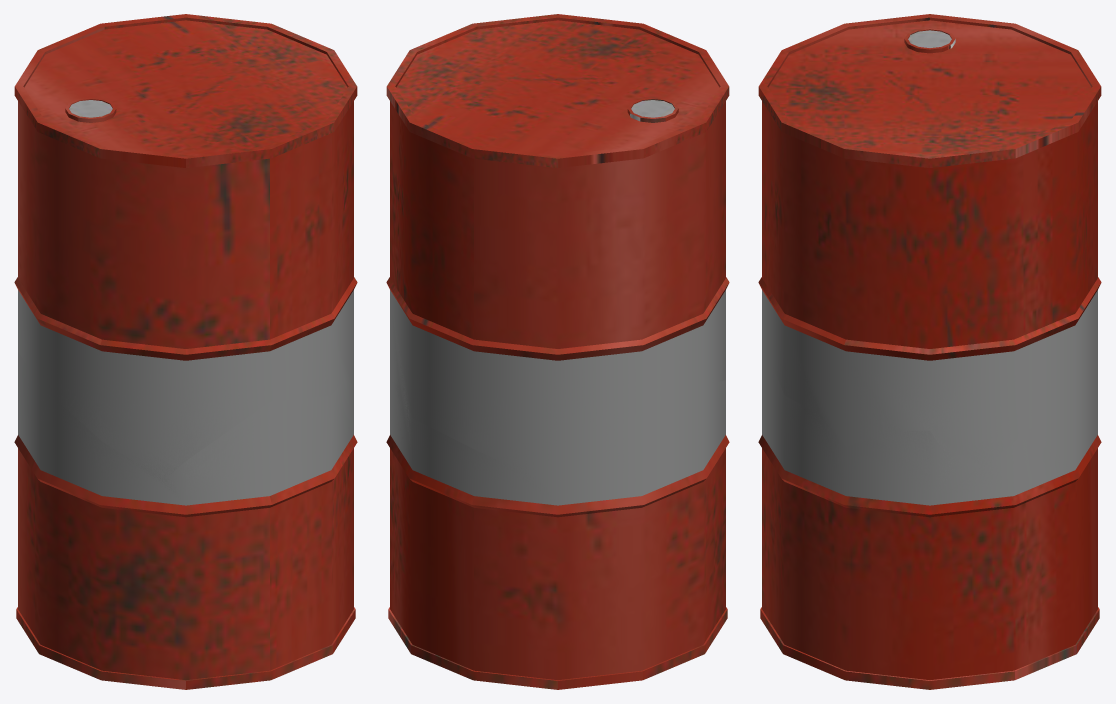
File: BOCHKA.fbx
3 views of the same model, side by side, from view 1: azimuth 30°, elevation 25°; view 2: azimuth 150°, elevation 25°; view 3: azimuth 270°, elevation 25° (orthographic).
Visible parts, largest first — view 1: BOCHKA STATIK, BOCHKA BAX1, BOCHKA BAX2; view 2: BOCHKA STATIK, BOCHKA BAX1, BOCHKA BAX2; view 3: BOCHKA STATIK, BOCHKA BAX1, BOCHKA BAX2.
Part boxes in pixels (x1,y1,x2,y2): BOCHKA STATIK: (14, 14, 357, 689); BOCHKA BAX1: (18, 290, 353, 479); BOCHKA BAX2: (18, 352, 353, 505); BOCHKA STATIK: (386, 14, 729, 689); BOCHKA BAX1: (390, 290, 725, 471); BOCHKA BAX2: (390, 380, 725, 505); BOCHKA STATIK: (758, 14, 1101, 689); BOCHKA BAX1: (762, 290, 1096, 466); BOCHKA BAX2: (762, 367, 1091, 505).
Bounding box in the file's own units: 92.73 × 159 × 92.73.
1 material, 1 textured.
